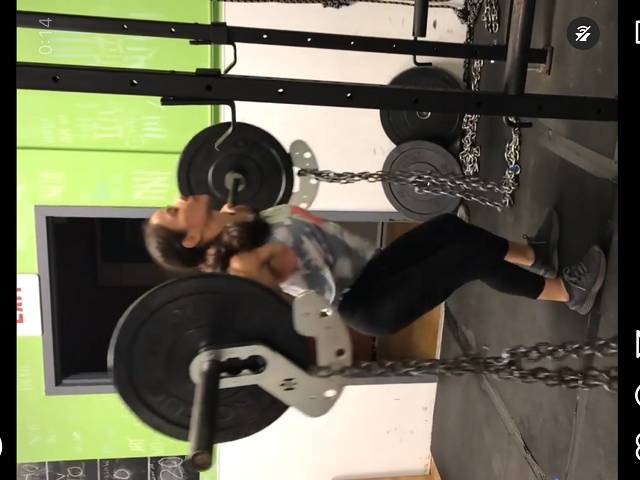weights: (105, 274, 319, 444), (176, 121, 295, 227)
